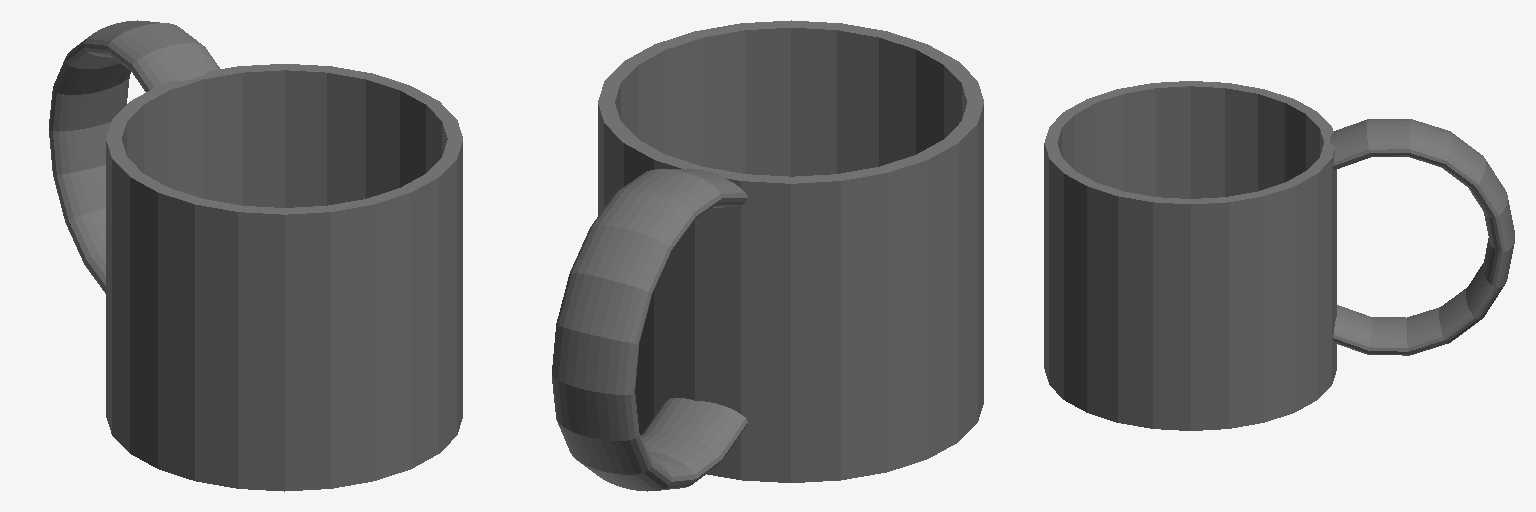
The robot description file, URDF, robot "object":
<?xml version="1.0"?>
<robot name="object">
  <link name="object">
    <visual>
      <origin xyz="0 0 0"/>
      <geometry>
        <mesh
          filename="../../mesh/oakink/mug_s002.stl" />
      </geometry>
      <material name="mat">
        <color rgba="0.5 0.5 0.5 1"/>
      </material>
    </visual>

    <collision>
      <origin xyz="0 0 0"/>
      <geometry>
        <mesh
          filename="../../mesh/oakink/mug_s002.stl" />
      </geometry>
    </collision>
  </link>
</robot>

--- What the picture shows (computed from the rendered views, not written in the file) ---
Views: 3 orthographic renders of the robot side by side, from view 1: azimuth 30°, elevation 25°; view 2: azimuth 150°, elevation 25°; view 3: azimuth 270°, elevation 25°.
Robot: object — 1 links, 0 joints (none); root link object; default pose: every joint at zero.
Links seen in each view (by area): view 1: object; view 2: object; view 3: object.
Boxes of the visible links, x1,y1,x2,y2 form: object: [49, 20, 462, 491]; object: [552, 20, 983, 491]; object: [1044, 81, 1514, 430].
Bounding box of the posed robot: 0.0839 × 0.1351 × 0.0762 m (x, y, z).
1 mesh visuals loaded from 1 distinct referenced files (1 binary STL).